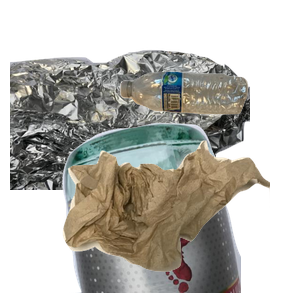glass: (60, 120, 300, 300)
metal: (10, 47, 250, 227)
plastic: (118, 69, 300, 176)
trash: (60, 138, 300, 300)
